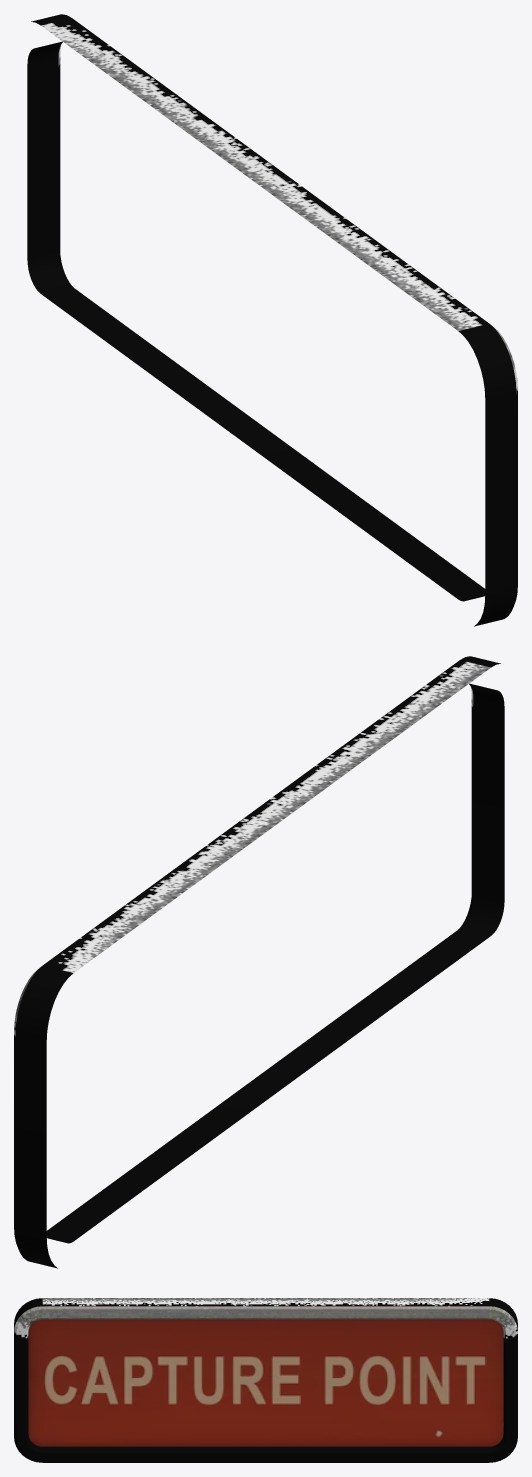
The picture shows the model from 3 angles, top to bottom: view 1: azimuth 30°, elevation 25°; view 2: azimuth 150°, elevation 25°; view 3: azimuth 270°, elevation 25°; orthographic projection. The views are drawn at different scales.
Parts seen in each view (by area): view 1: body0_model0_lod0_mesh0; view 2: body0_model0_lod0_mesh0; view 3: body0_model0_lod0_mesh0.
Boxes of the visible parts, box(x1,y1,x2,y2) form: body0_model0_lod0_mesh0: box(27, 14, 517, 626); body0_model0_lod0_mesh0: box(14, 656, 504, 1268); body0_model0_lod0_mesh0: box(14, 1298, 517, 1462).
Size of the model in its own units: 3 by 24 by 70.
1 material, 1 textured.
